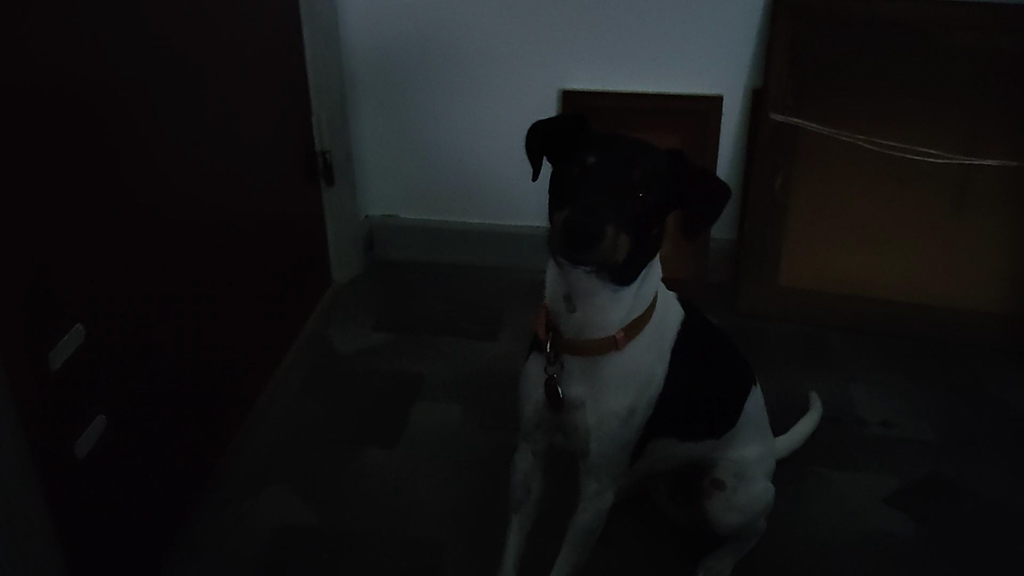Dog: (494, 92, 834, 576)
